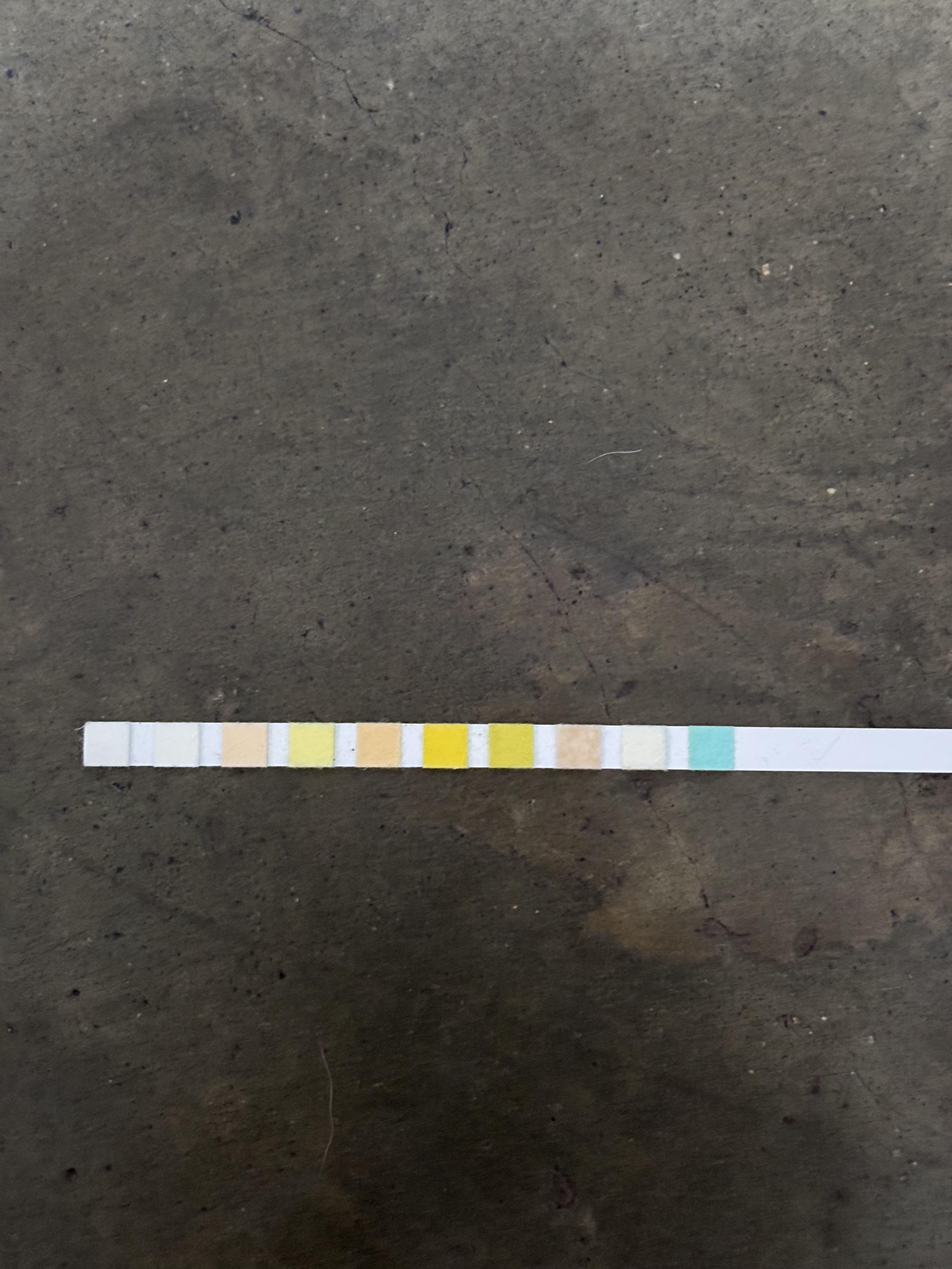Bilirubin: (622, 726, 665, 769)
Blood: (424, 725, 467, 767)
Glucose: (690, 728, 733, 769)
Ketone: (556, 727, 598, 768)
Leukocytes: (86, 724, 129, 766)
Nitrite: (157, 723, 198, 767)
Protein: (291, 724, 331, 766)
SpGravity: (489, 725, 532, 767)
Urobilinogen: (225, 725, 266, 766)
pH: (358, 725, 397, 766)
strip: (84, 722, 952, 774)
